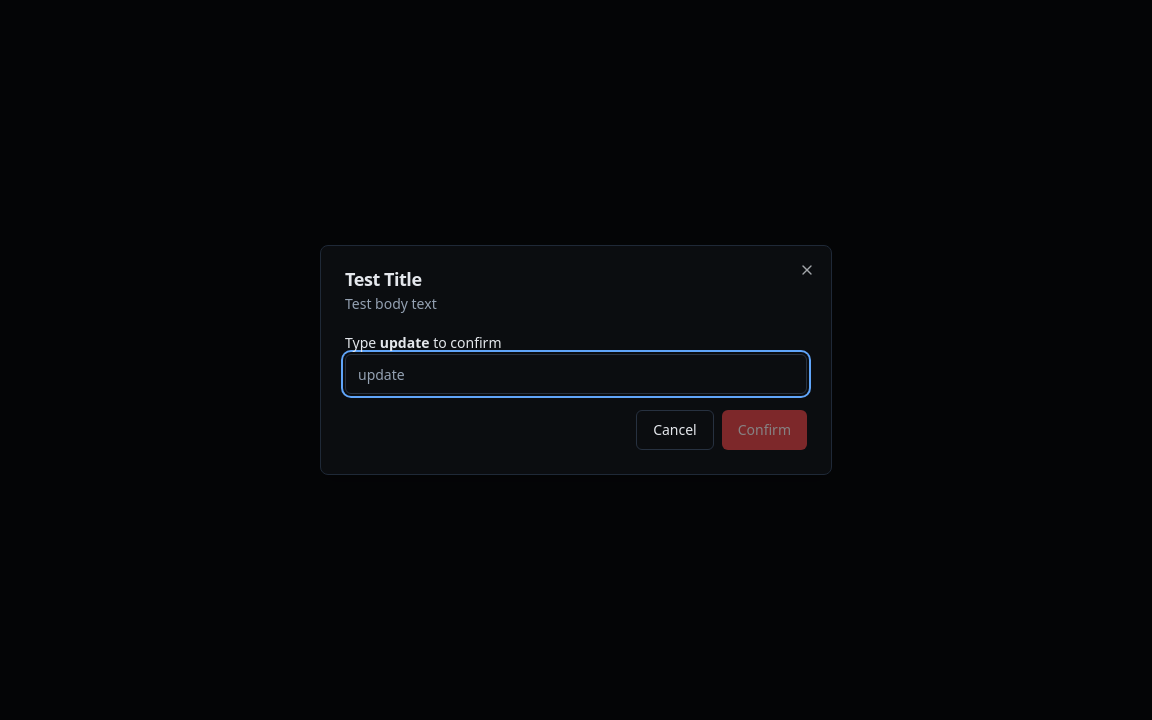
ConfirmPhraseDialog › enables confirm button when input matches expectedPhrase (case-insensitive, trimmed)
Type "  UPDATE " into the field with placeholder "update" at (576, 374), box left=345, top=354, right=807, bottom=394
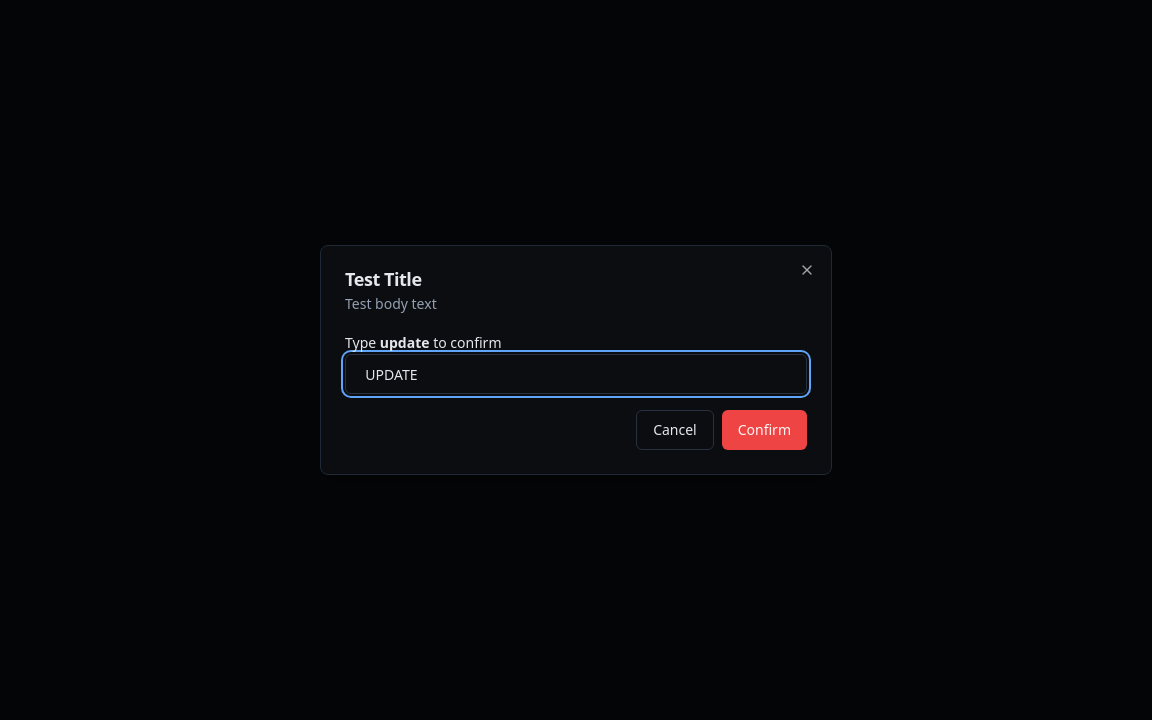
Expected: the button "Confirm" is enabled, left=722, top=410, right=807, bottom=450
